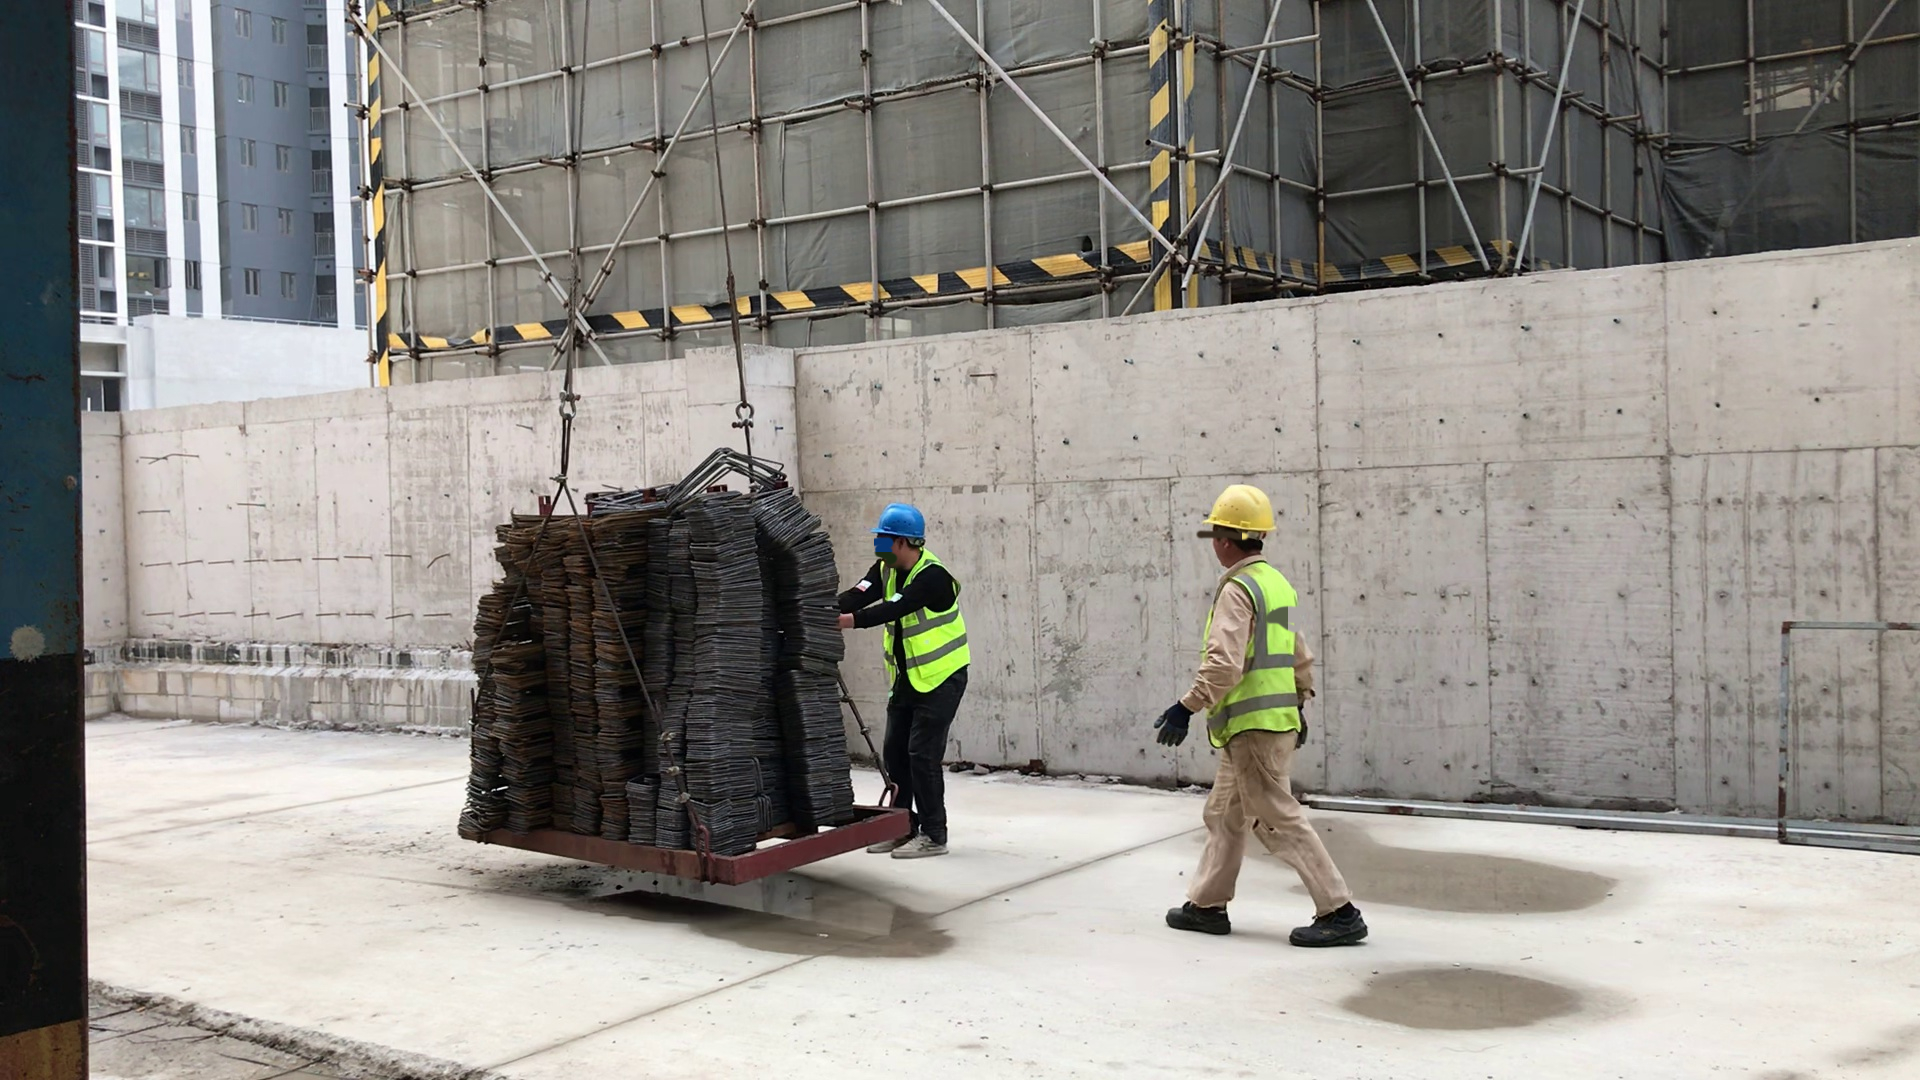helmet: (1198, 482, 1297, 542), (858, 494, 943, 559)
person: (1157, 474, 1354, 990), (816, 481, 970, 871)
vest: (1191, 561, 1309, 728), (844, 559, 981, 678)
